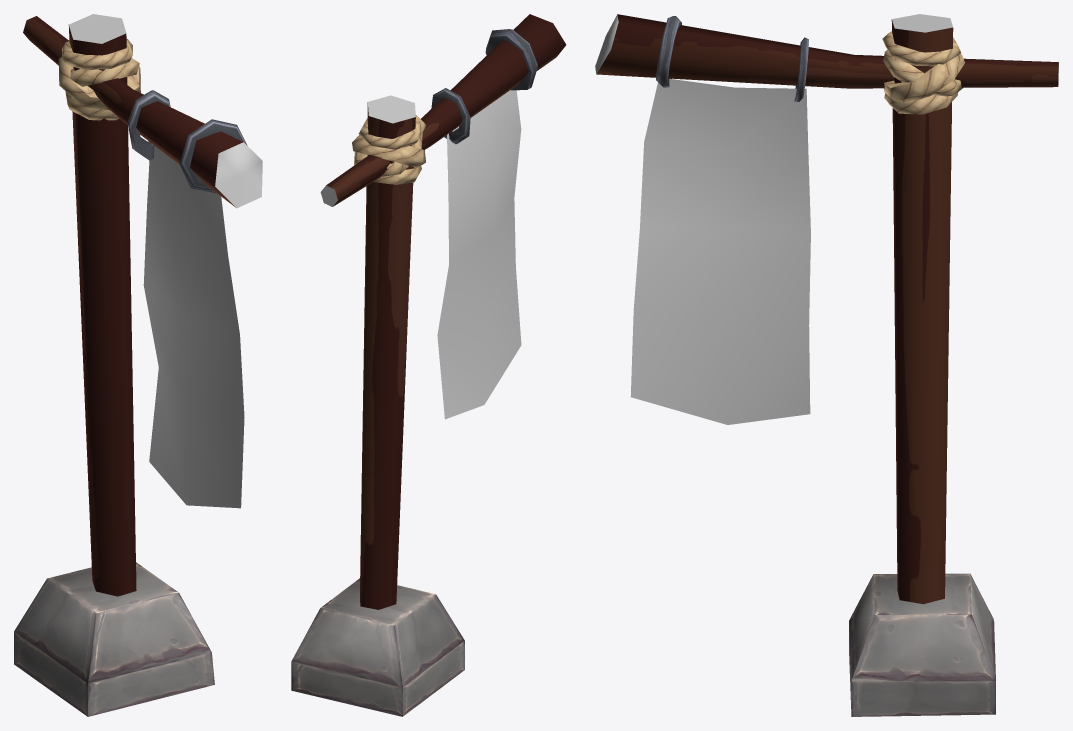
File: SM_PROP_flag_02.fbx
The picture shows the model from 3 angles, left to right: view 1: azimuth 30°, elevation 25°; view 2: azimuth 150°, elevation 25°; view 3: azimuth 270°, elevation 25°; orthographic projection. The views are drawn at different scales.
Parts seen in each view (by area): view 1: SM_PROP_flag_02; view 2: SM_PROP_flag_02; view 3: SM_PROP_flag_02.
Part boxes in pixels (bbox=[...]): SM_PROP_flag_02: bbox=[14, 14, 262, 716]; SM_PROP_flag_02: bbox=[291, 14, 566, 716]; SM_PROP_flag_02: bbox=[595, 14, 1058, 716].
Size of the model in its own units: 123 by 590 by 378.
